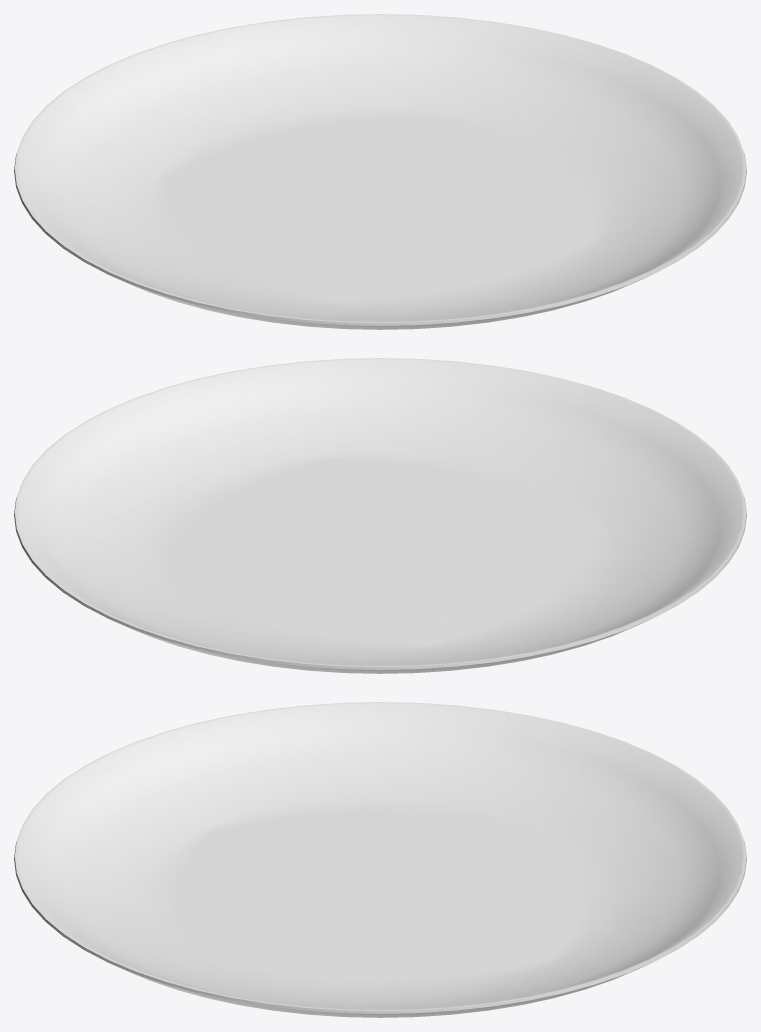
File: plate.glb
3 renders of one model, top to bottom at view 1: azimuth 30°, elevation 25°; view 2: azimuth 150°, elevation 25°; view 3: azimuth 270°, elevation 25°, orthographic.
Visible parts, largest first — view 1: Plate; view 2: Plate; view 3: Plate.
Boxes of the visible parts, x1,y1,x2,y2 form: Plate: (14,14,746,329); Plate: (14,358,746,673); Plate: (14,702,746,1017).
Bounding box in the file's own units: 0.2116 × 0.0172 × 0.2116.
1 material, 1 textured.
